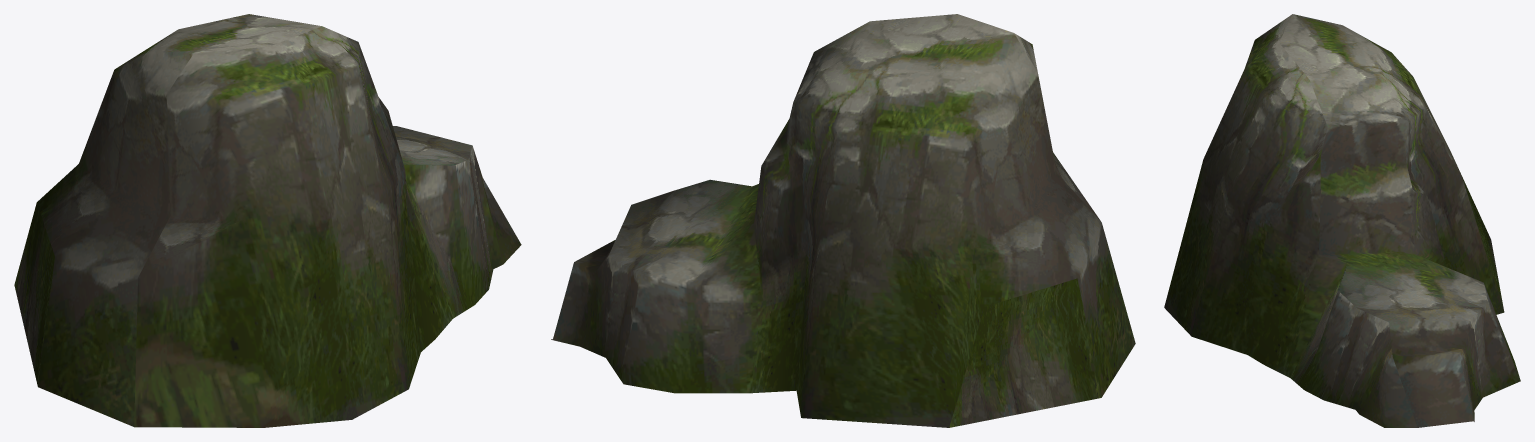
The model's file is 4007_Item_shitou_1.FBX.
3 renders of one model, left to right at view 1: azimuth 30°, elevation 25°; view 2: azimuth 150°, elevation 25°; view 3: azimuth 270°, elevation 25°, orthographic. The views are drawn at different scales.
Parts seen in each view (by area): view 1: 4007_Item_shitou_1; view 2: 4007_Item_shitou_1; view 3: 4007_Item_shitou_1.
Boxes of the visible parts, x1=… form: 4007_Item_shitou_1: x1=14, y1=14, x2=521, y2=427; 4007_Item_shitou_1: x1=551, y1=14, x2=1135, y2=427; 4007_Item_shitou_1: x1=1164, y1=14, x2=1520, y2=427.
Bounding box in the file's own units: 91.96 × 69.44 × 56.51.
Materials: 1 (1 with a texture image).
